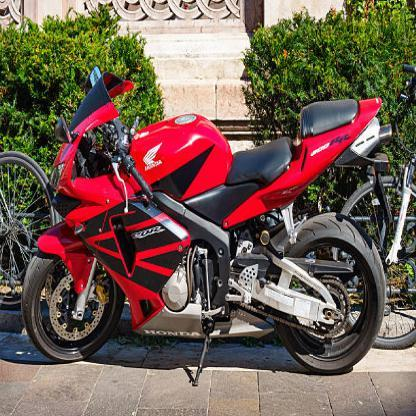Motorcycle: (17, 62, 387, 387)
